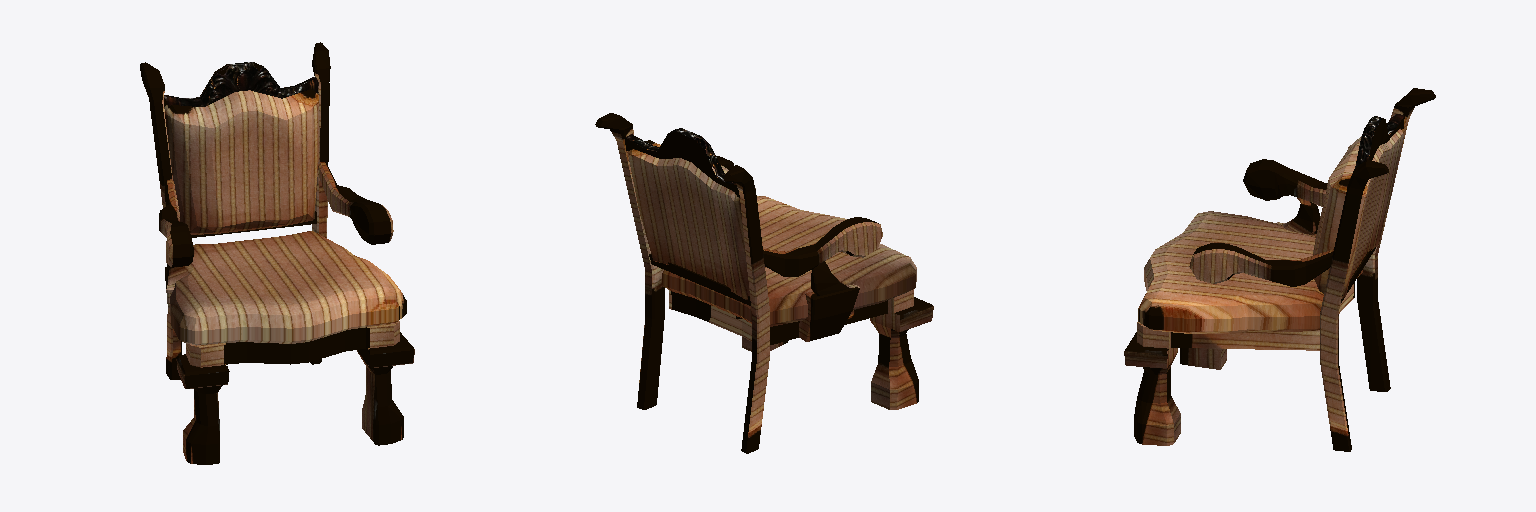
The picture shows the model from 3 angles: view 1: azimuth 30°, elevation 25°; view 2: azimuth 150°, elevation 25°; view 3: azimuth 270°, elevation 25°; orthographic projection.
Parts seen in each view (by area): view 1: LivingRoom_GEO_GRP_LivingRoom_Ceiling_03; view 2: LivingRoom_GEO_GRP_LivingRoom_Ceiling_03; view 3: LivingRoom_GEO_GRP_LivingRoom_Ceiling_03.
Part boxes in pixels (x1,y1,x2,y2): LivingRoom_GEO_GRP_LivingRoom_Ceiling_03: (140,42,414,464); LivingRoom_GEO_GRP_LivingRoom_Ceiling_03: (595,113,933,453); LivingRoom_GEO_GRP_LivingRoom_Ceiling_03: (1124,88,1435,451).
Bounding box in the file's own units: 0.7668 × 0.9232 × 0.8702.
Materials: 1 (1 with a texture image).